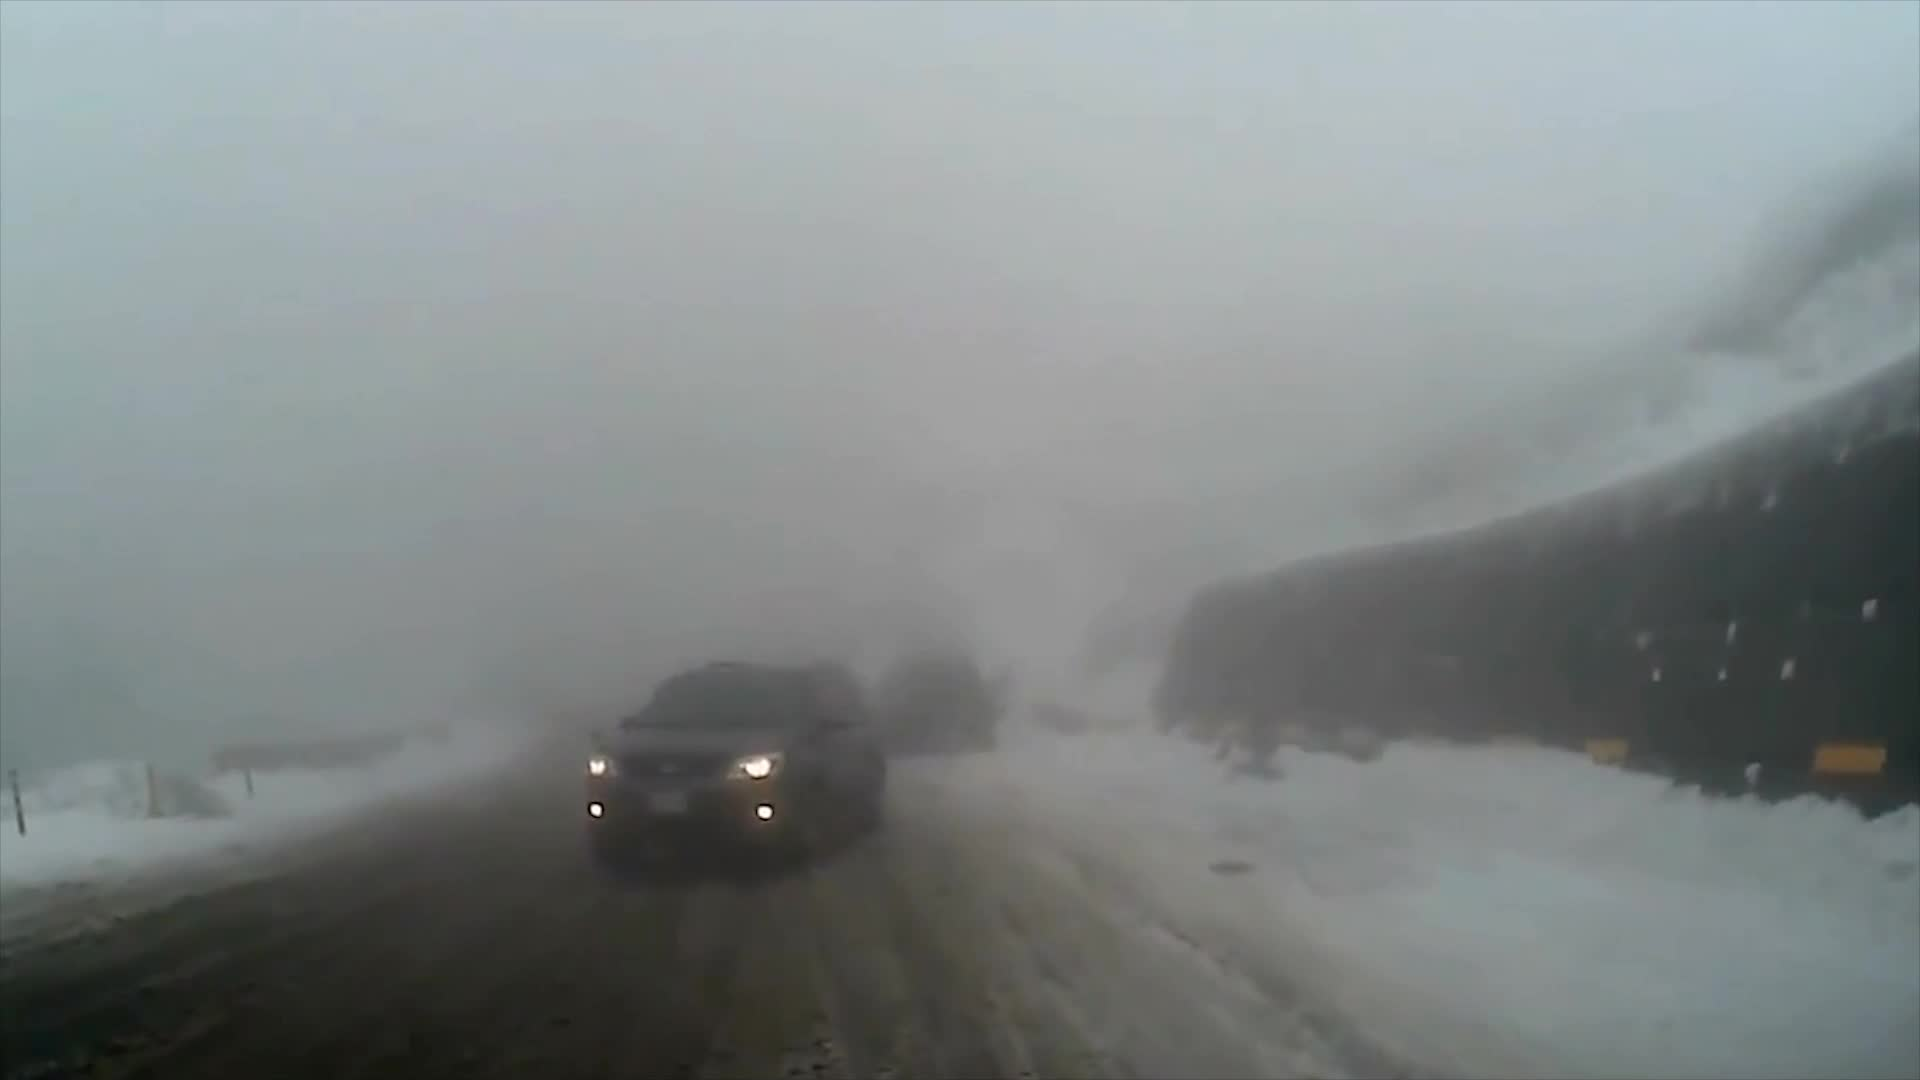vehicle: (578, 655, 886, 876)
